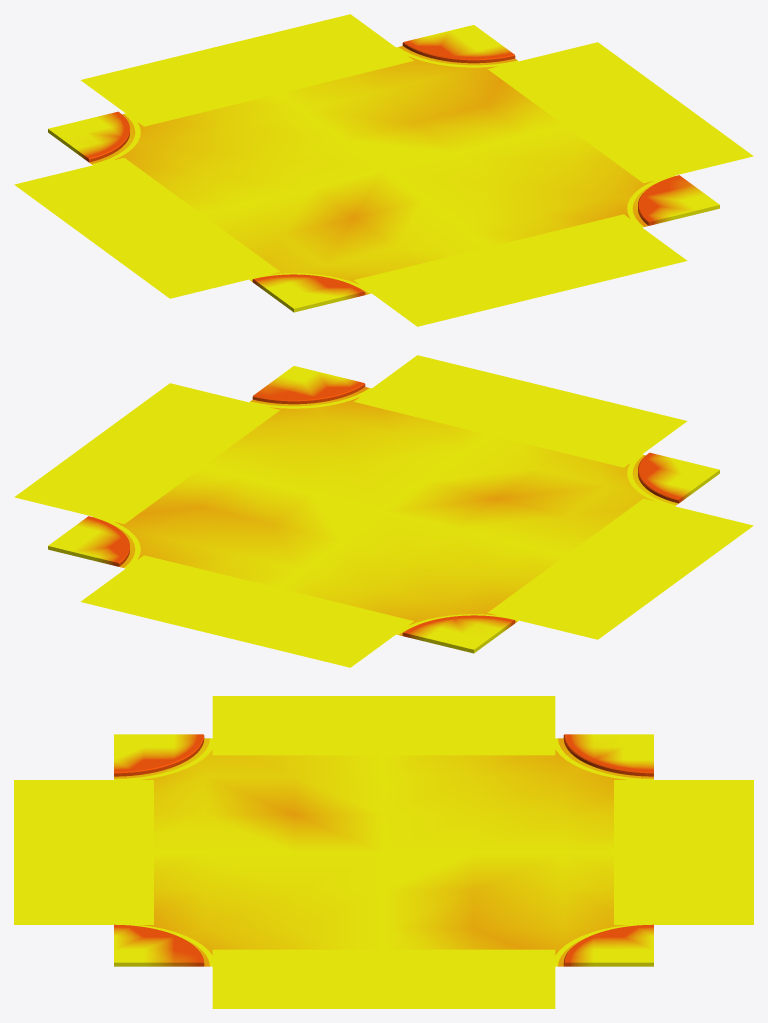
The model's file is street-4wayintersection.glb.
3 views of the same model, one above another, from view 1: azimuth 30°, elevation 25°; view 2: azimuth 150°, elevation 25°; view 3: azimuth 270°, elevation 25° (orthographic). The views are drawn at different scales.
Visible parts, largest first — view 1: Street_4WayIntersection; view 2: Street_4WayIntersection; view 3: Street_4WayIntersection.
Part boxes in pixels (x1,y1,x2,y2): Street_4WayIntersection: (14,14,753,326); Street_4WayIntersection: (14,355,753,667); Street_4WayIntersection: (14,696,753,1008).
Size of the model in its own units: 24.67 by 0.15 by 24.67.
3 materials, 3 textured.
